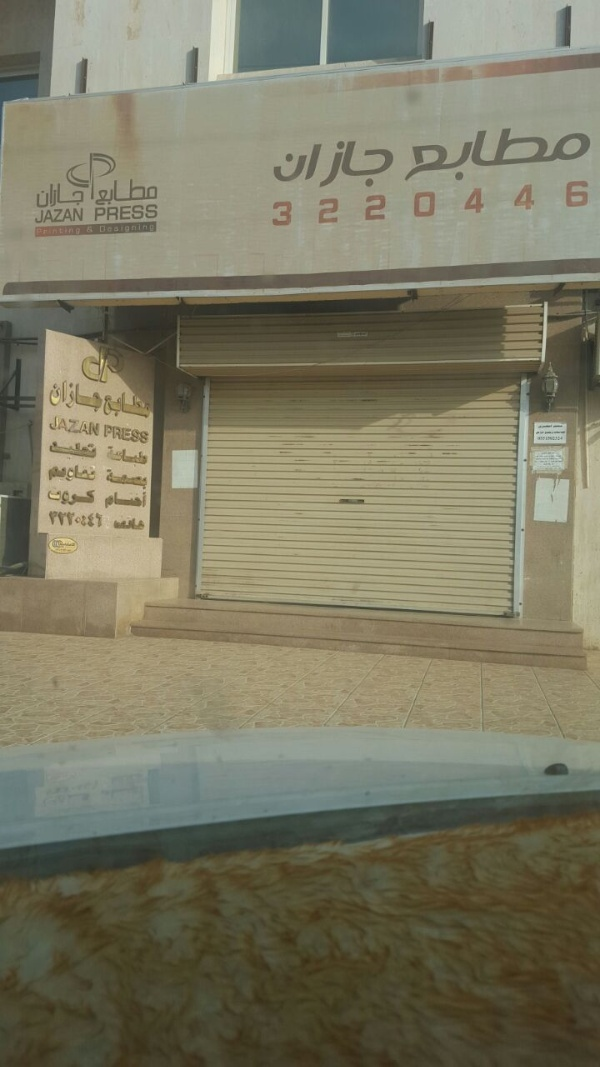text: (417, 123, 432, 183), (433, 123, 448, 183), (449, 123, 464, 183), (465, 123, 480, 183), (481, 123, 496, 183), (497, 123, 512, 183), (513, 123, 528, 183), (529, 123, 544, 183), (545, 123, 560, 183), (561, 123, 576, 183), (577, 123, 592, 183), (273, 136, 288, 194), (289, 136, 304, 194), (305, 136, 320, 194), (321, 136, 336, 194), (337, 136, 352, 194), (353, 136, 368, 194), (369, 136, 384, 194), (97, 344, 112, 384), (113, 344, 128, 384), (385, 136, 395, 194), (65, 379, 80, 414), (81, 379, 96, 414), (408, 123, 416, 183), (51, 379, 64, 414), (113, 389, 128, 419), (129, 389, 144, 419), (97, 177, 112, 207), (113, 177, 128, 207), (129, 177, 144, 207), (85, 344, 96, 384), (49, 182, 64, 210), (65, 182, 80, 210), (145, 177, 159, 207), (417, 191, 432, 219), (273, 200, 288, 227), (321, 198, 336, 224), (369, 195, 384, 221), (465, 188, 480, 214), (514, 185, 528, 212), (577, 180, 589, 209), (113, 446, 128, 469), (129, 446, 144, 469), (65, 441, 80, 464), (81, 441, 96, 464), (36, 182, 48, 210), (113, 469, 128, 491), (129, 469, 144, 491), (65, 416, 80, 436), (81, 416, 96, 436), (113, 425, 128, 445), (129, 425, 144, 445), (49, 486, 64, 506), (65, 486, 80, 506), (81, 486, 96, 506), (49, 509, 64, 529), (65, 509, 80, 529), (81, 509, 96, 529), (51, 441, 64, 464), (566, 180, 576, 209), (81, 464, 97, 482), (97, 204, 112, 223), (113, 204, 128, 223), (129, 204, 144, 223), (113, 491, 128, 510), (129, 491, 144, 510), (50, 416, 64, 436), (65, 464, 80, 482), (145, 204, 159, 223), (50, 464, 64, 482), (104, 389, 112, 419), (49, 209, 64, 225), (65, 209, 80, 225), (113, 516, 128, 532), (129, 516, 144, 532), (145, 389, 152, 419), (97, 379, 103, 414), (36, 209, 48, 225), (529, 185, 536, 212), (103, 425, 112, 445), (545, 423, 560, 435), (113, 223, 128, 234), (129, 223, 144, 234), (65, 226, 81, 236), (97, 509, 105, 529), (49, 226, 64, 236), (99, 223, 112, 234), (81, 182, 86, 210), (105, 491, 112, 510), (145, 223, 156, 234), (36, 226, 48, 236), (97, 416, 103, 436), (545, 434, 560, 442), (107, 446, 112, 469), (412, 191, 416, 219), (107, 469, 112, 491), (289, 200, 293, 227), (481, 188, 485, 214), (53, 540, 64, 549), (65, 540, 76, 549), (536, 423, 544, 435), (145, 469, 149, 491), (561, 423, 568, 435), (433, 191, 436, 219), (145, 425, 149, 445), (86, 226, 96, 234), (365, 195, 368, 221), (145, 446, 148, 469), (81, 209, 85, 225), (536, 434, 544, 442), (145, 491, 148, 510), (337, 198, 339, 224), (561, 434, 567, 442), (271, 200, 272, 227), (319, 198, 320, 224), (385, 195, 386, 221), (97, 441, 98, 464), (95, 204, 96, 223), (145, 516, 146, 532)
